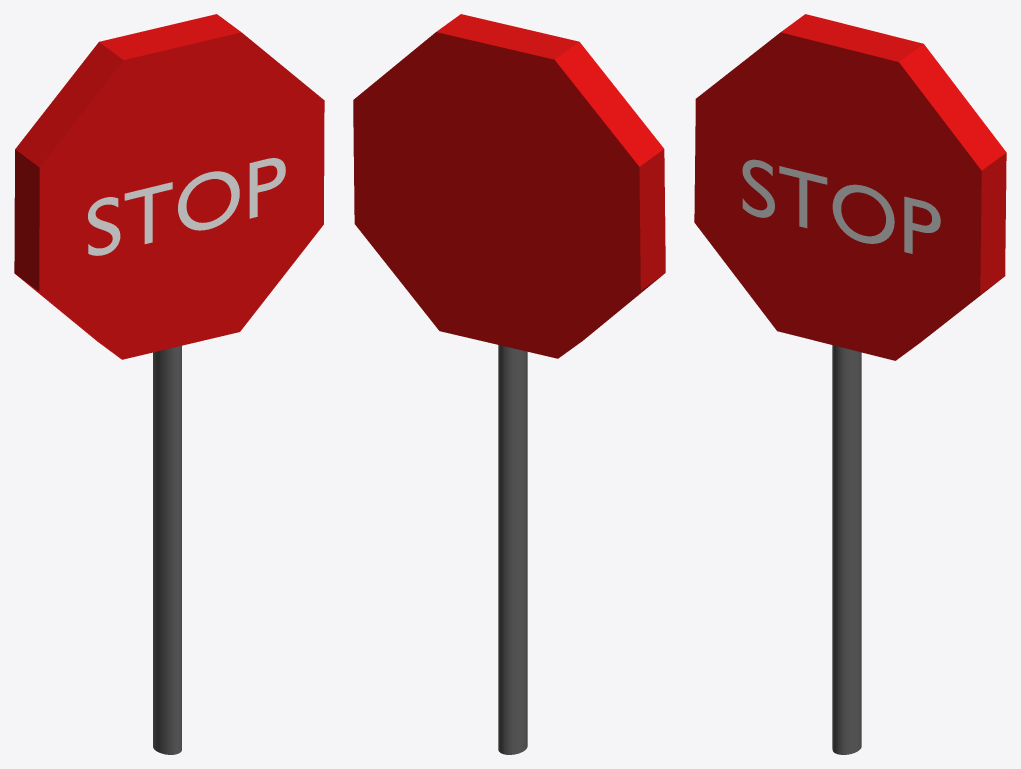
File: stop_sign.fbx
The picture shows the model from 3 angles, left to right: view 1: azimuth 30°, elevation 25°; view 2: azimuth 150°, elevation 25°; view 3: azimuth 330°, elevation 25°; orthographic projection.
Visible parts, largest first — view 1: octagon; view 2: octagon; view 3: octagon.
Part boxes in pixels (x1,y1,x2,y2): octagon: [14, 14, 324, 754]; octagon: [353, 14, 665, 754]; octagon: [694, 14, 1006, 754].
Bounding box in the file's own units: 2981 × 7063 × 470.
